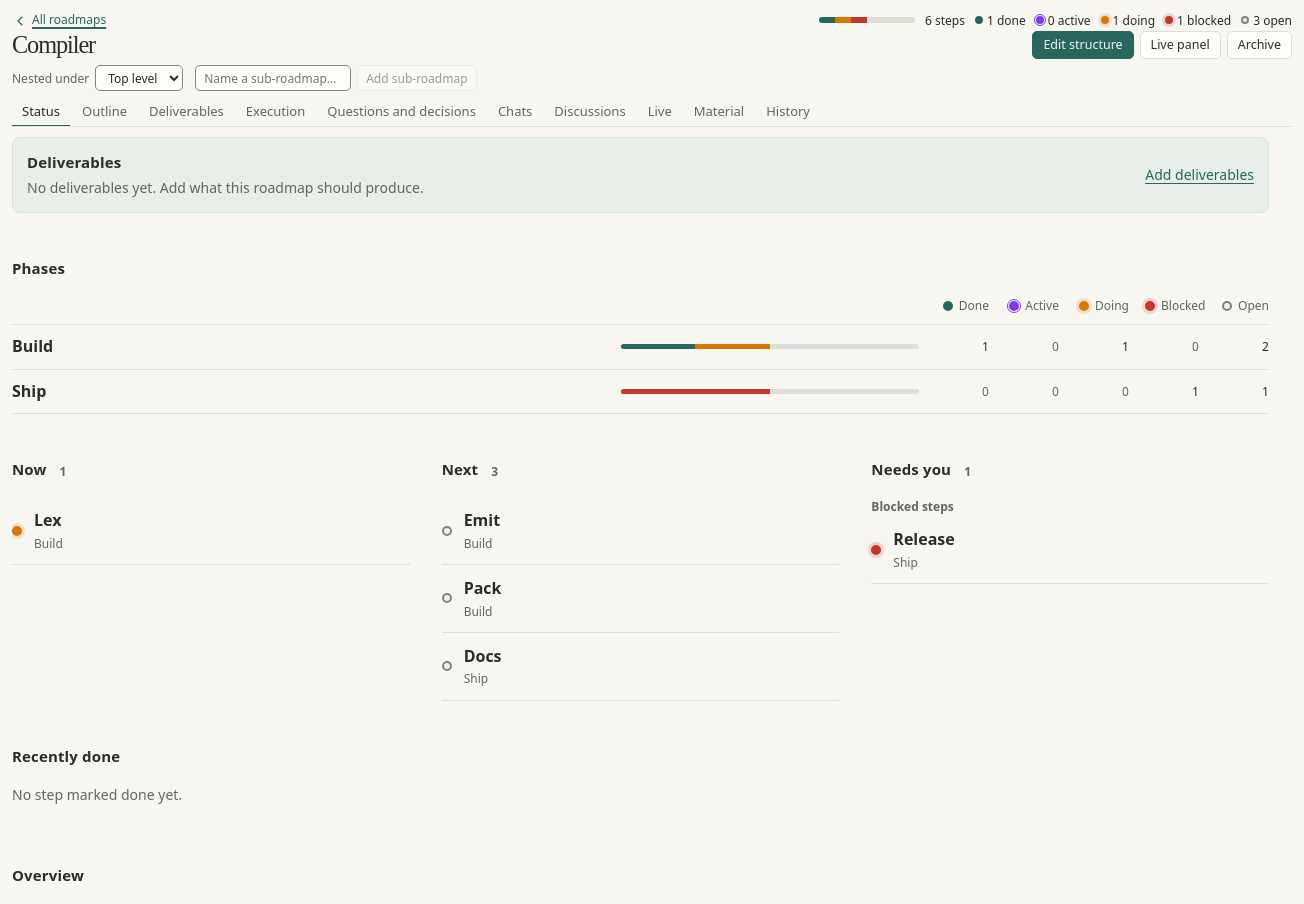
Test: reads no Live while the panel stays hidden, and opens it again from the header
Check: the heading "Compiler" is shown, box [12, 31, 95, 58]
Click the button "Live panel" at (1180, 45), box [1140, 31, 1221, 59]
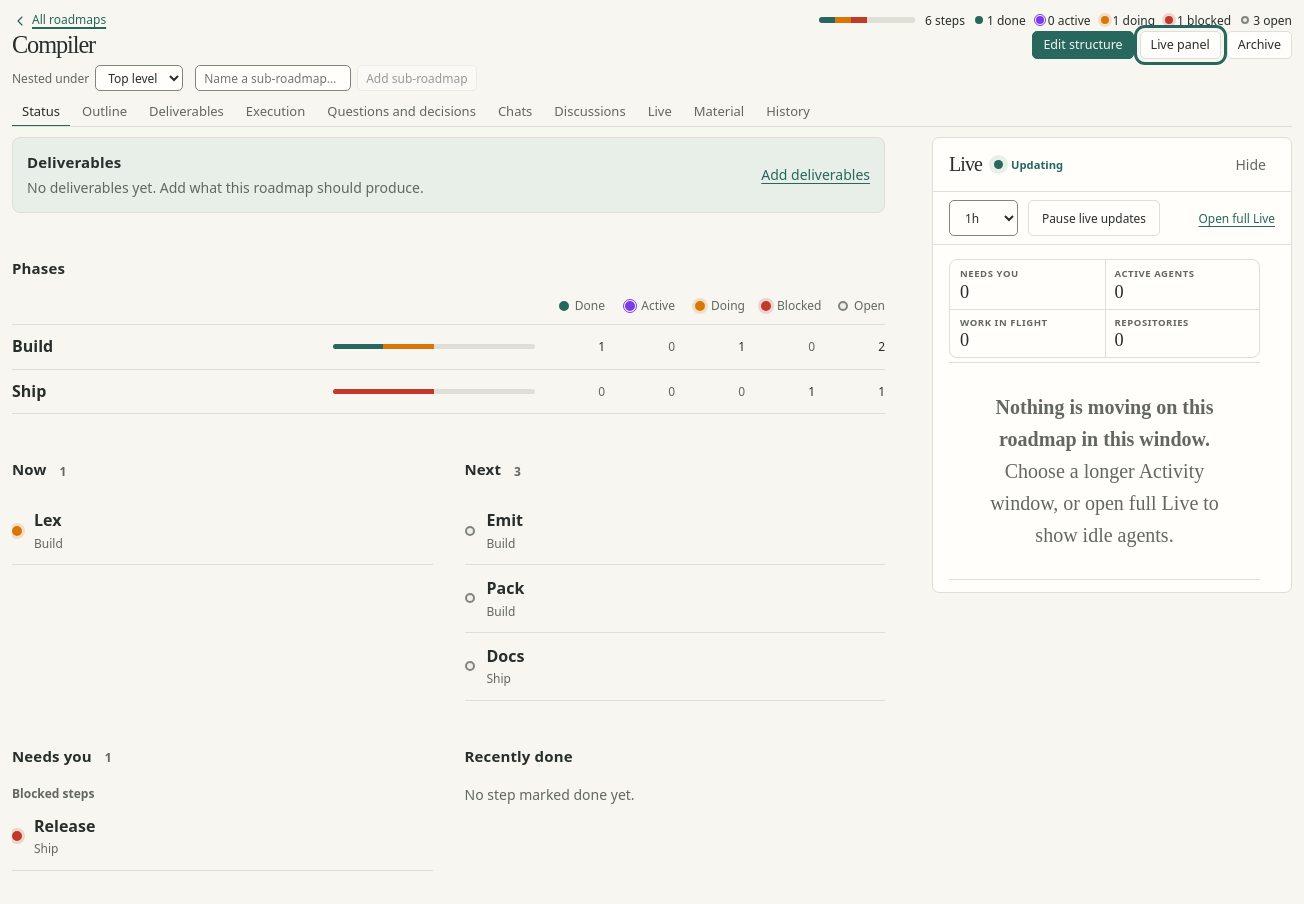
Check: the element named "Live activity" is shown, box [932, 138, 1292, 593]
